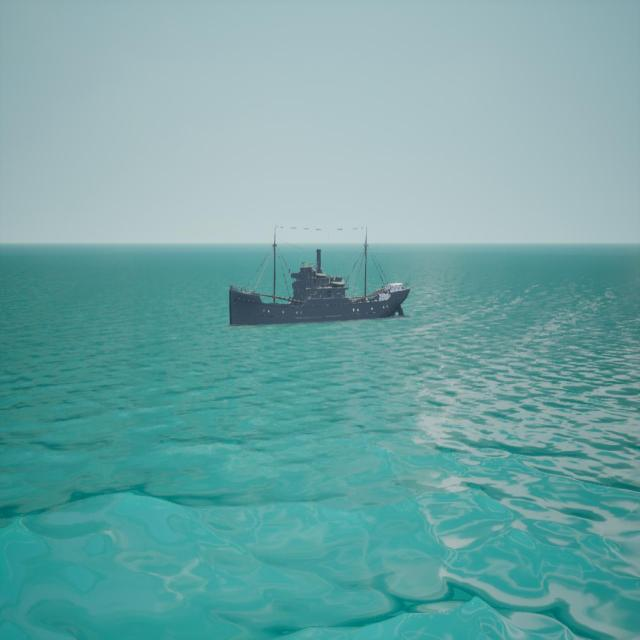fishing ship: (230, 227, 413, 325)
